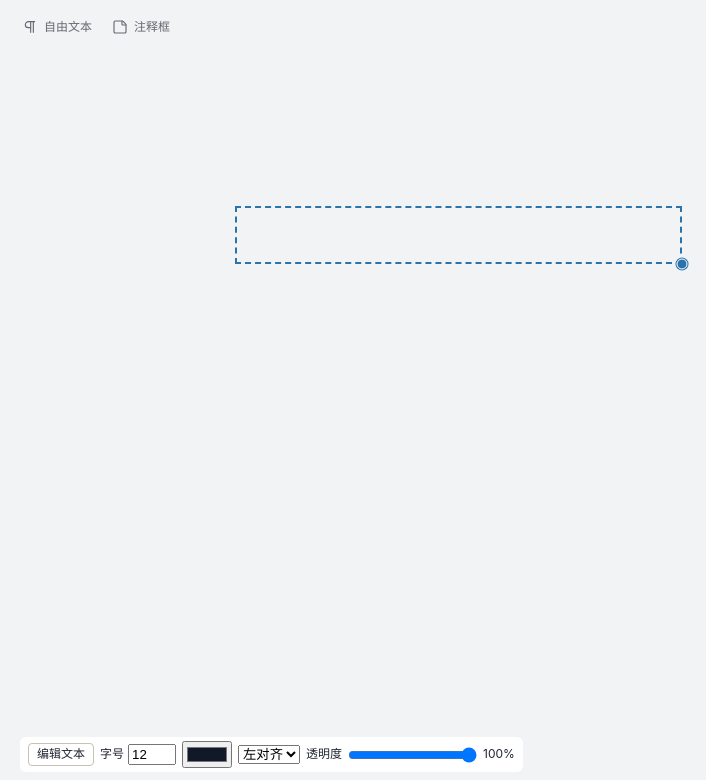
Test case: FreeTextLayer editing › types and saves text through update_free_text
Click the button "编辑文本" at (61, 754), box [28, 743, 94, 766]
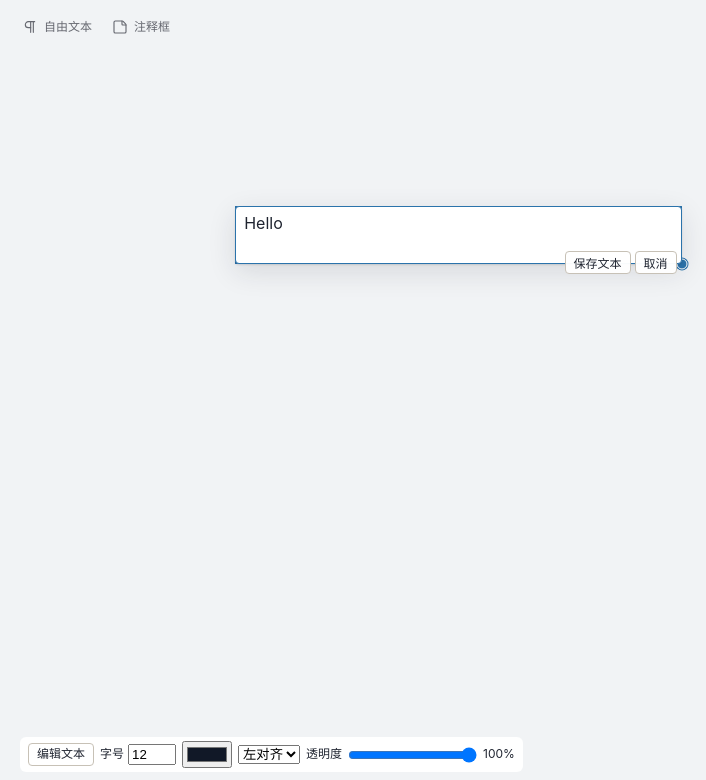
Expected: the text box named "自由文本编辑器" holds "Hello"
Replace the text in the text box named "自由文本编辑器" with "新文本" at (458, 229), box [240, 211, 677, 247]
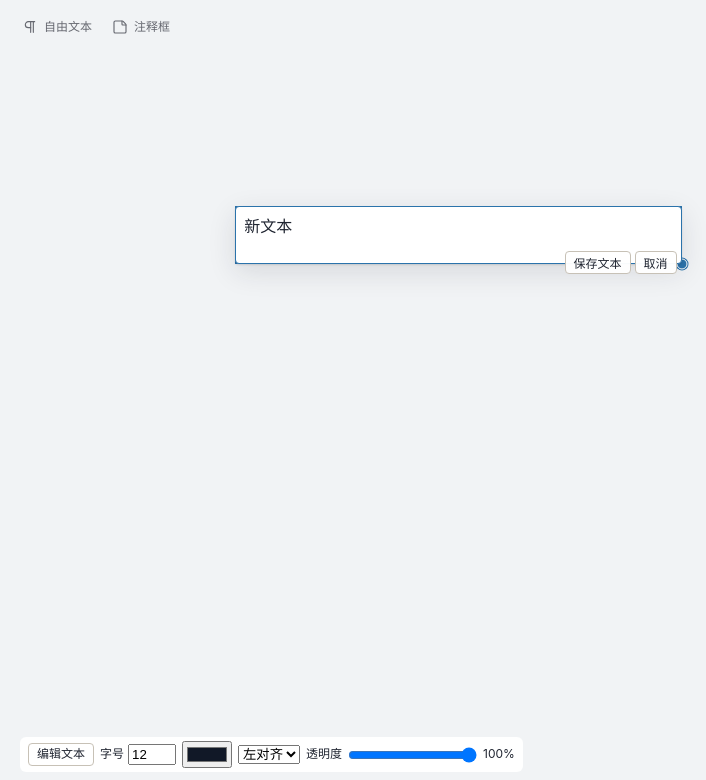
Click the button "保存文本" at (598, 262), box [564, 251, 630, 274]
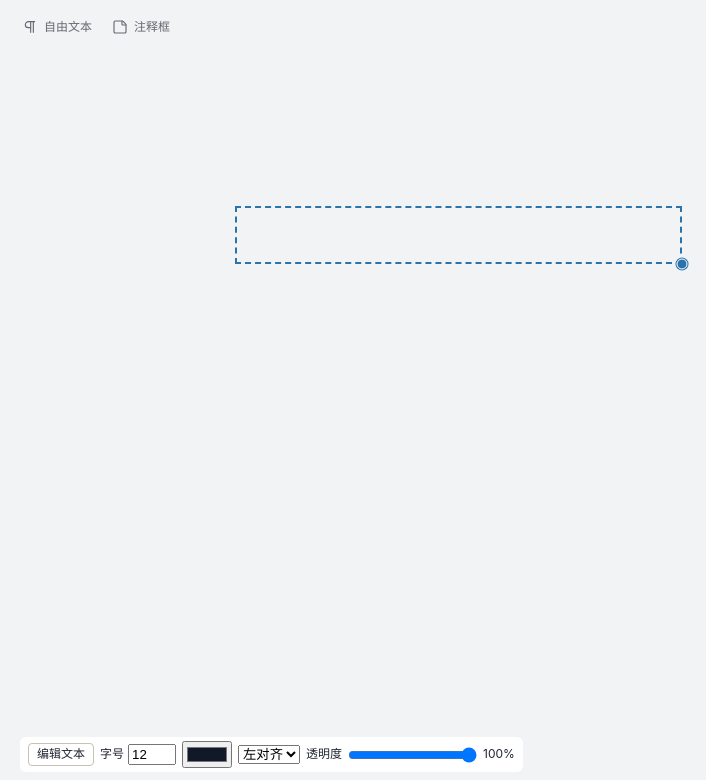
Expected: the text box labelled "自由文本编辑器" is gone
